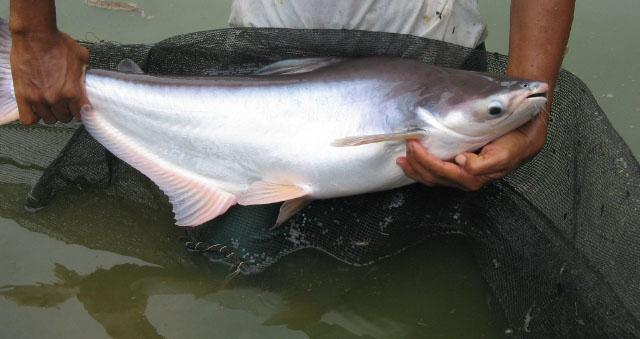Mulut: (483, 57, 573, 141)
Sirip Anal: (71, 96, 241, 240)
Sirip Dada: (318, 118, 436, 164)
Sirip Perut: (232, 158, 321, 242)
Sirip Punggung: (108, 42, 346, 114)
